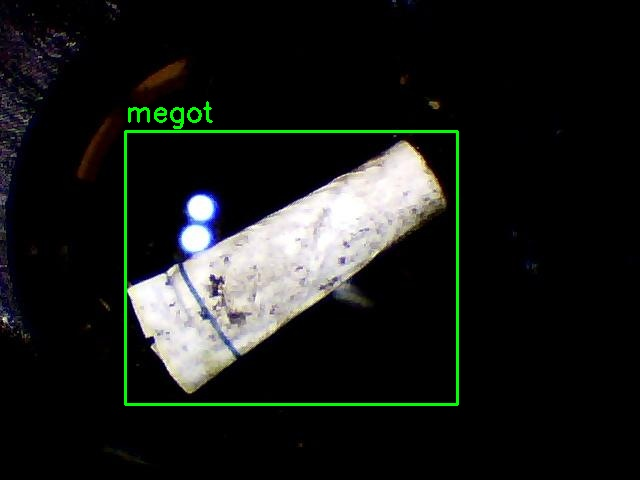megot: (125, 131, 457, 404)
